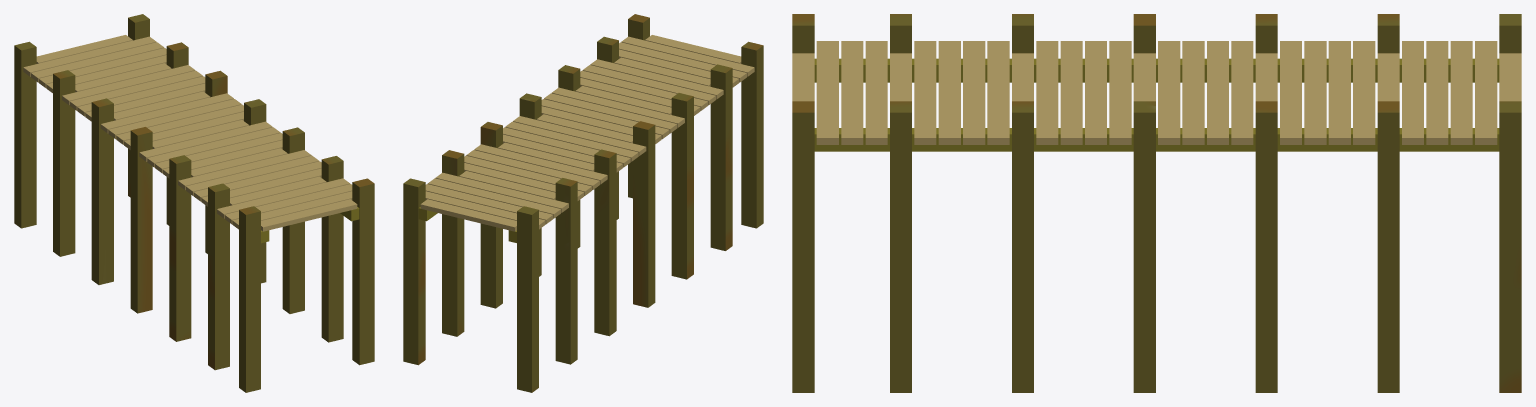
File: bridge_test.glb
3 views of the same model, side by side, from view 1: azimuth 30°, elevation 25°; view 2: azimuth 150°, elevation 25°; view 3: azimuth 270°, elevation 25° (orthographic). The views are drawn at different scales.
Parts seen in each view (by area): view 1: vertical_beam, floor; view 2: vertical_beam, floor; view 3: floor, vertical_beam, horizontal_beam.
Boxes of the visible parts, x1,y1,x2,y2 form: vertical_beam: (14, 14, 374, 392); floor: (23, 35, 357, 231); vertical_beam: (403, 14, 763, 392); floor: (420, 35, 754, 231); floor: (792, 41, 1521, 144); vertical_beam: (792, 14, 1521, 392); horizontal_beam: (814, 58, 1499, 151).
Size of what is drawn, in the model's own units: 3.06 by 4.04 by 9.53.
3 materials, 3 textured.
